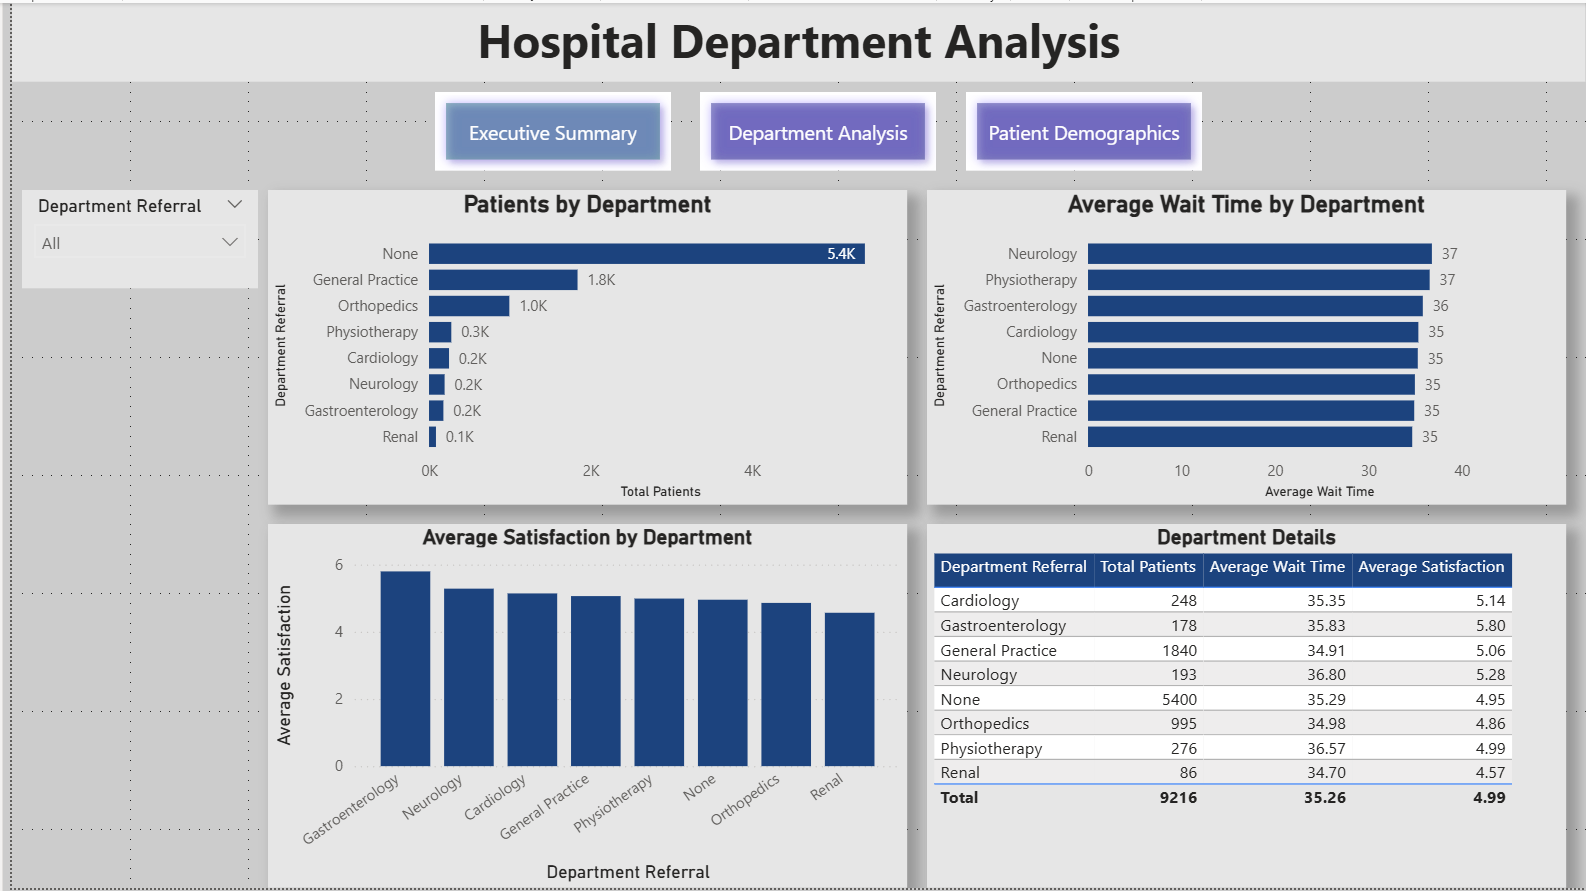

This screenshot's page, from the dashboard's own definition file:
{"tool":"powerbi","page":{"name":"Department Analysis","canvas":[1280,720],"ordinal":2},"visuals":[{"type":"textbox","box":[0,0,1280,64],"z":0},{"type":"slicer","fields":{"Values":["Dim_Department.Department Referral"]},"box":[8,152,192,80],"z":4000},{"type":"clusteredBarChart","title":"Patients by Department","fields":{"Category":["Dim_Department.Department Referral"],"Y":["Fact_Patient.Total Patients"]},"box":[208,152,520,256],"z":5000},{"type":"clusteredBarChart","title":"Average Wait Time by Department","fields":{"Category":["Dim_Department.Department Referral"],"Y":["Dim_Date.Average Wait Time"]},"box":[744,152,520,256],"z":6000},{"type":"clusteredColumnChart","title":"Average Satisfaction by Department","fields":{"Category":["Dim_Department.Department Referral"],"Y":["Dim_Date.Average Satisfaction"]},"box":[208,424,520,296],"z":7000},{"type":"tableEx","title":"Department Details","fields":{"Values":["Dim_Department.Department Referral","Fact_Patient.Total Patients","Dim_Date.Average Wait Time","Dim_Date.Average Satisfaction"]},"box":[744,424,520,296],"z":8000},{"type":"actionButton","box":[344,72,192,64],"z":8001},{"type":"actionButton","box":[560,72,192,64],"z":8002},{"type":"actionButton","box":[776,72,192,64],"z":8003}]}

Visuals, with their boxes in screenshot pixels (x1, y1, x2, y2), scaled from the page's 1280x720 canvas onto the 1586x891 screenshot:
textbox: [x1=0, y1=0, x2=1585, y2=79]
slicer - Dim_Department.Department Referral: [x1=10, y1=188, x2=248, y2=287]
"Patients by Department" clusteredBarChart: [x1=258, y1=188, x2=902, y2=505]
"Average Wait Time by Department" clusteredBarChart: [x1=922, y1=188, x2=1566, y2=505]
"Average Satisfaction by Department" clusteredColumnChart: [x1=258, y1=525, x2=902, y2=890]
"Department Details" tableEx: [x1=922, y1=525, x2=1566, y2=890]
actionButton: [x1=426, y1=89, x2=664, y2=168]
actionButton: [x1=694, y1=89, x2=932, y2=168]
actionButton: [x1=962, y1=89, x2=1199, y2=168]
